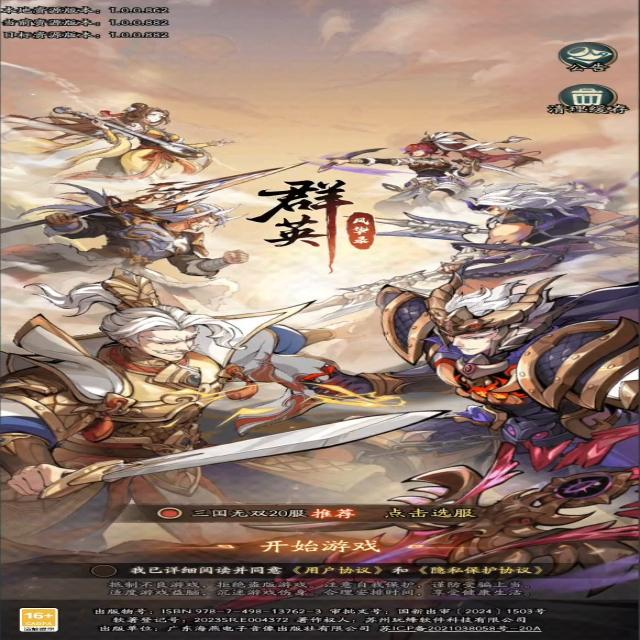operation-enter: (246, 535, 394, 555)
system-cleanUpCache: (541, 84, 630, 115)
system-notices: (561, 42, 618, 72)
system-protocol-box: (126, 562, 287, 579), (86, 563, 124, 580)
